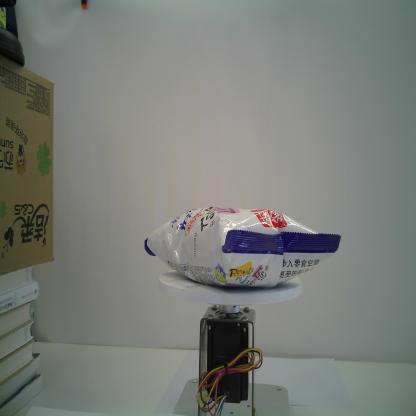Puffed Food: (143, 205, 342, 290)
